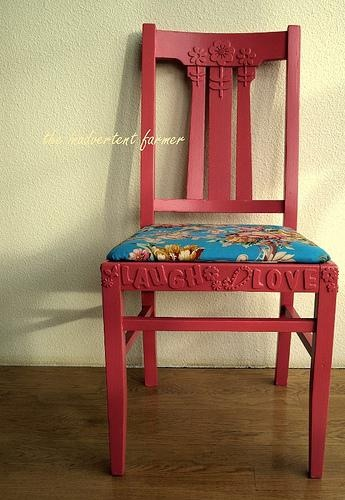obstacle: (101, 242, 337, 477), (140, 24, 299, 228)
